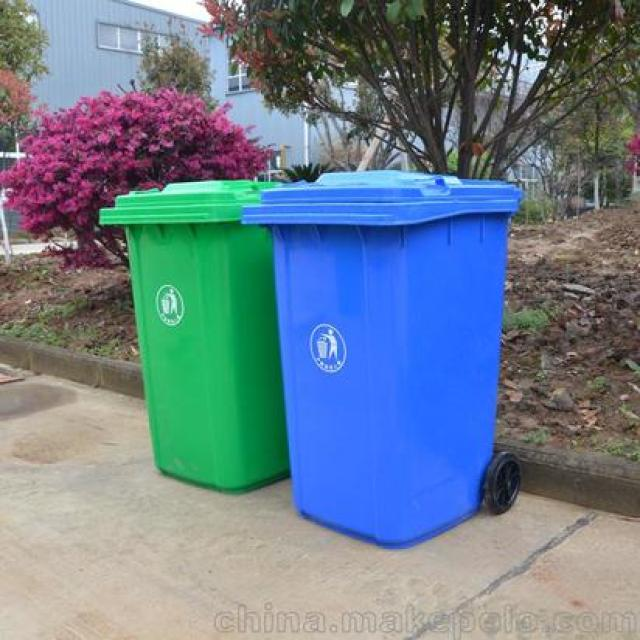garbage_bin: (238, 167, 520, 548), (97, 179, 290, 494)
